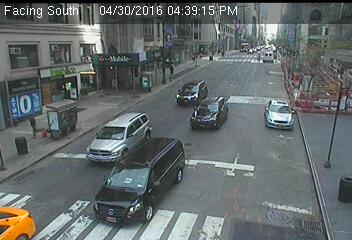neg: (310, 144, 336, 180), (134, 100, 152, 124), (230, 88, 240, 102), (223, 58, 232, 69), (285, 66, 293, 77), (186, 83, 194, 93)
pos: (20, 108, 41, 137), (167, 62, 176, 74), (189, 54, 197, 64)
